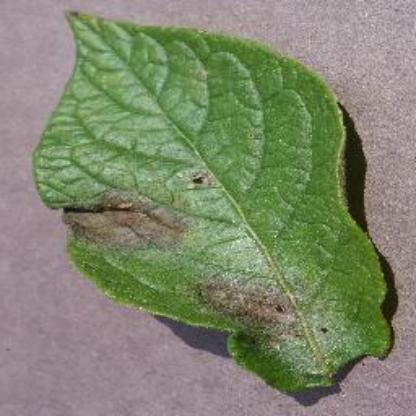Late-Blight: (31, 3, 403, 397)
